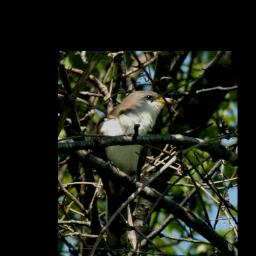Cuckoo: (90, 90, 179, 256)
